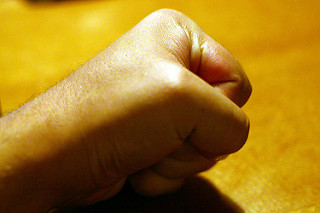fist: (86, 7, 249, 191)
